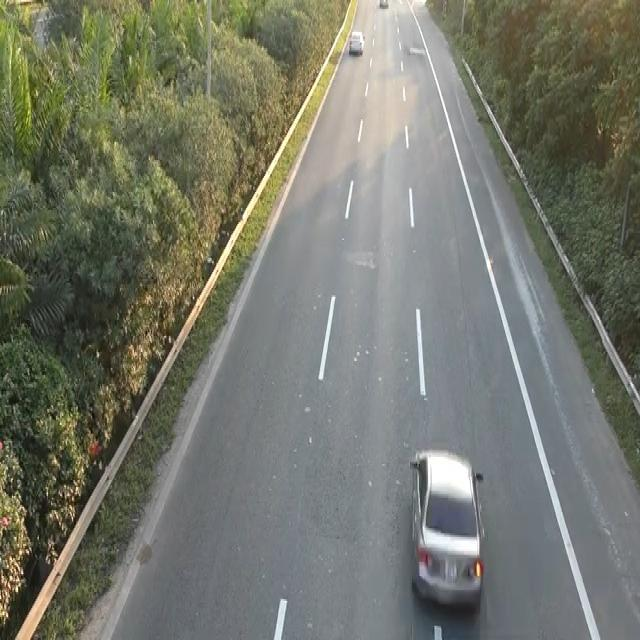bus: (406, 442, 487, 612)
